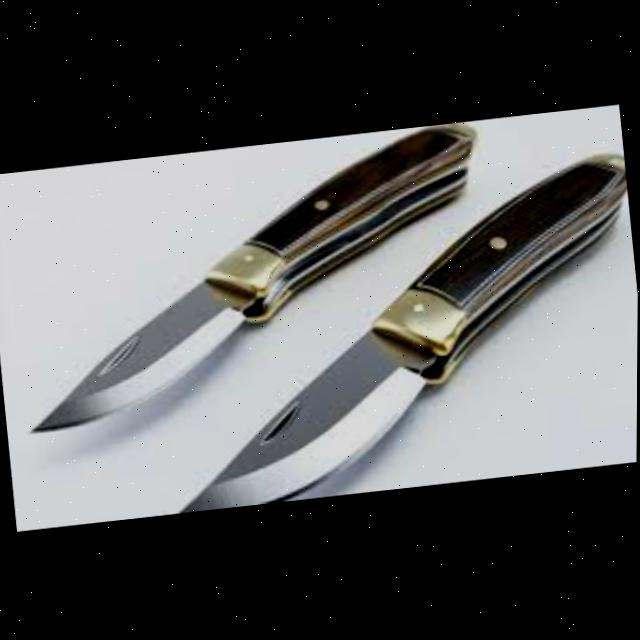Knife: (138, 149, 639, 514), (3, 121, 504, 433)
